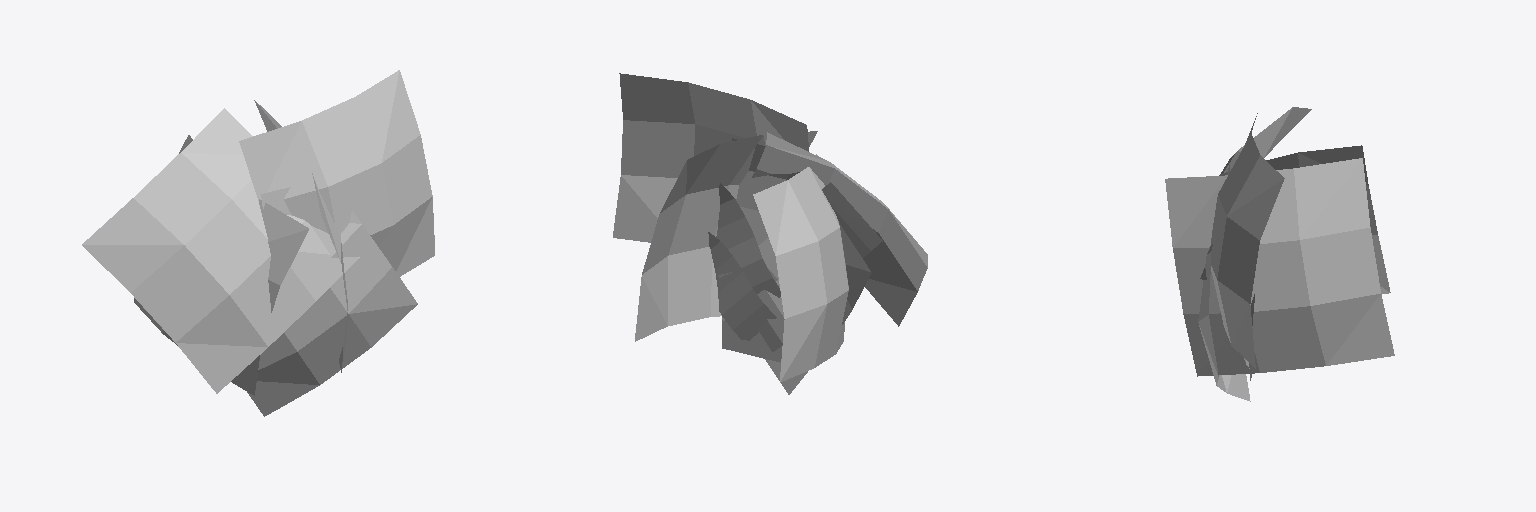
The model's file is bushes02_01.obj.
3 views of the same model, side by side, from view 1: azimuth 30°, elevation 25°; view 2: azimuth 150°, elevation 25°; view 3: azimuth 270°, elevation 25° (orthographic).
Visible parts, largest first — view 1: bushes02_01; view 2: bushes02_01; view 3: bushes02_01.
Part boxes in pixels (left/top/right/bottom): bushes02_01: left=82, top=70, right=434, bottom=416; bushes02_01: left=613, top=73, right=927, bottom=394; bushes02_01: left=1165, top=107, right=1394, bottom=401.
Bounding box in the file's own units: 206 × 175 × 123.